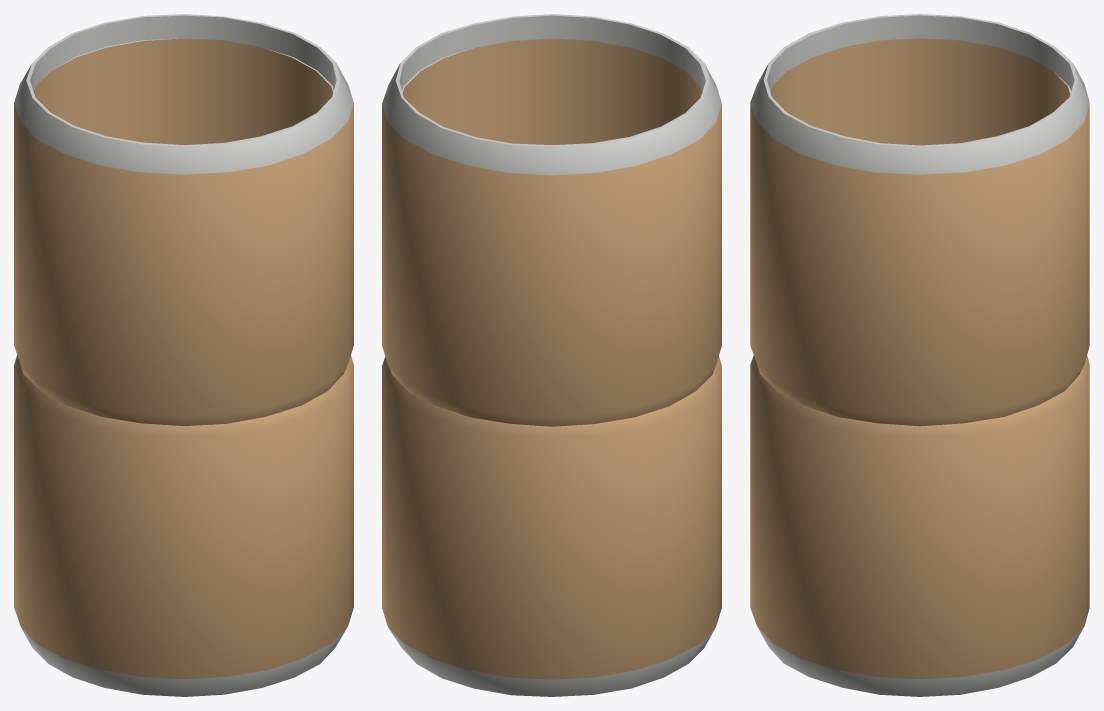
The model's file is slab_pipes_supply__softener-yes_and_plumbing-copper_and_water-well_and_flowsmart-yes.glb.
The picture shows the model from 3 angles, left to right: view 1: azimuth 30°, elevation 25°; view 2: azimuth 150°, elevation 25°; view 3: azimuth 270°, elevation 25°; orthographic projection.
Visible parts, largest first — view 1: fit_coupling_pipe_supply_softener_feed__copper.901; view 2: fit_coupling_pipe_supply_softener_feed__copper.901; view 3: fit_coupling_pipe_supply_softener_feed__copper.901.
Part boxes in pixels (left/top/right/bottom): fit_coupling_pipe_supply_softener_feed__copper.901: left=14, top=14, right=353, bottom=696; fit_coupling_pipe_supply_softener_feed__copper.901: left=382, top=14, right=721, bottom=696; fit_coupling_pipe_supply_softener_feed__copper.901: left=750, top=14, right=1089, bottom=696.
Bounding box in the file's own units: 0.0247 × 0.0441 × 0.0247.
